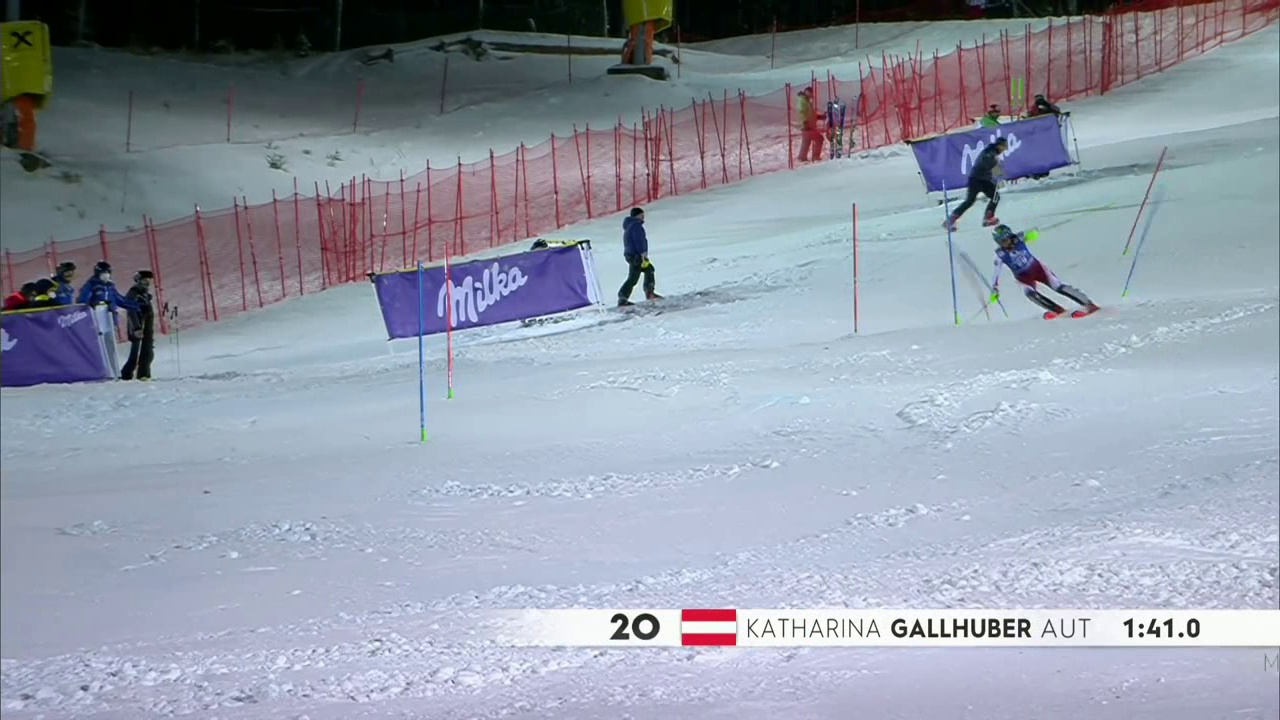milka: (388, 257, 578, 336)
raiffeisen: (1, 21, 40, 58)
